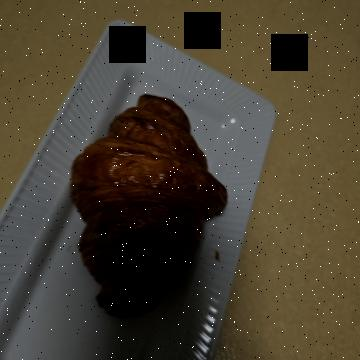croissant: (77, 127, 321, 308)
